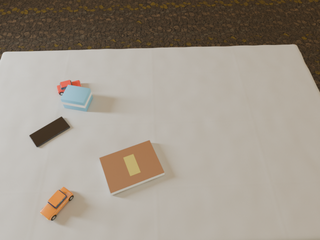book: (100, 140, 164, 195)
box: (61, 85, 93, 111)
phone: (29, 117, 70, 147)
toy_car: (40, 187, 73, 221), (57, 80, 81, 95)
